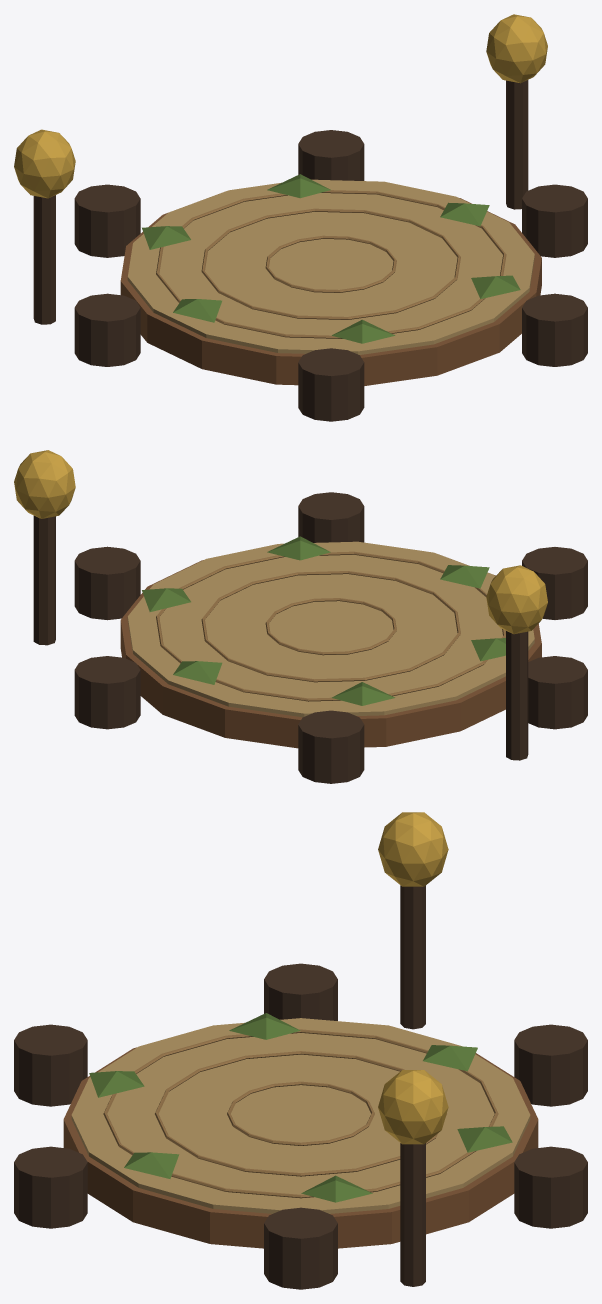
Rendered from feast.glb.
3 views of the same model, one above another, from view 1: azimuth 30°, elevation 25°; view 2: azimuth 150°, elevation 25°; view 3: azimuth 270°, elevation 25° (orthographic). The views are drawn at different scales.
Parts seen in each view (by area): view 1: FeastClearing; view 2: FeastClearing; view 3: FeastClearing.
Boxes of the visible parts, x1,y1,x2,y2 form: FeastClearing: (14,14,587,421); FeastClearing: (14,450,587,783); FeastClearing: (14,812,587,1289).
Bounding box in the file's own units: 4.22 × 1.45 × 3.58.
